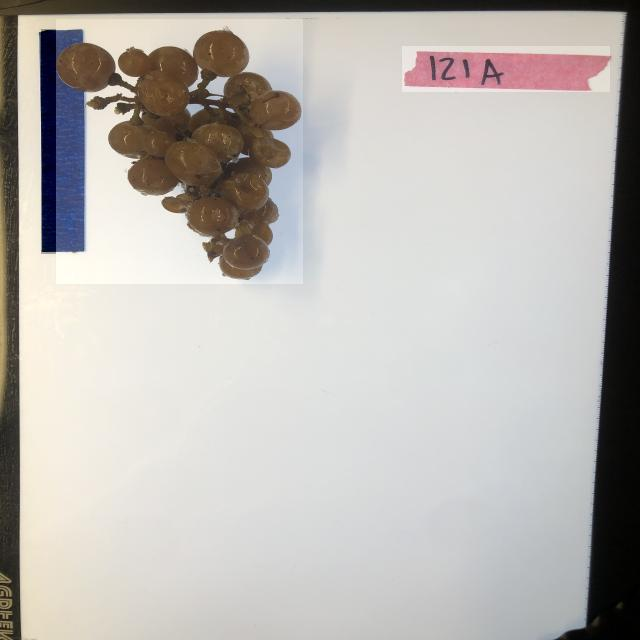grape_cluster: (56, 19, 303, 284)
index: (402, 46, 610, 92)
measure_label: (41, 29, 88, 254)
